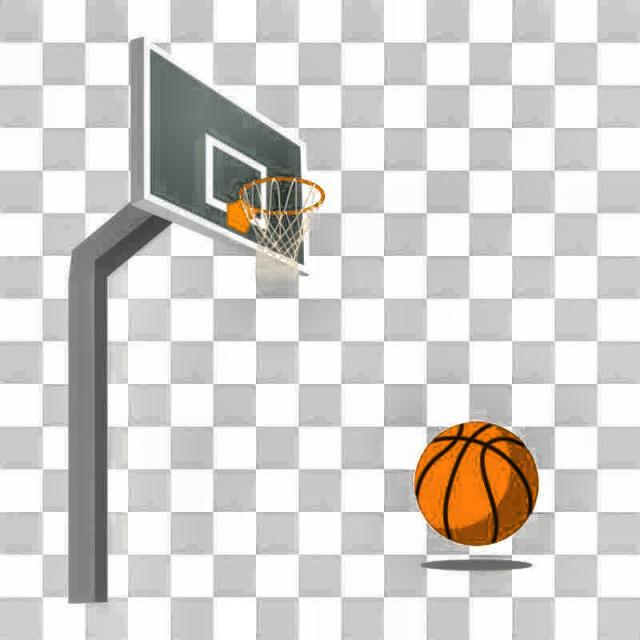board: (413, 420, 537, 546)
